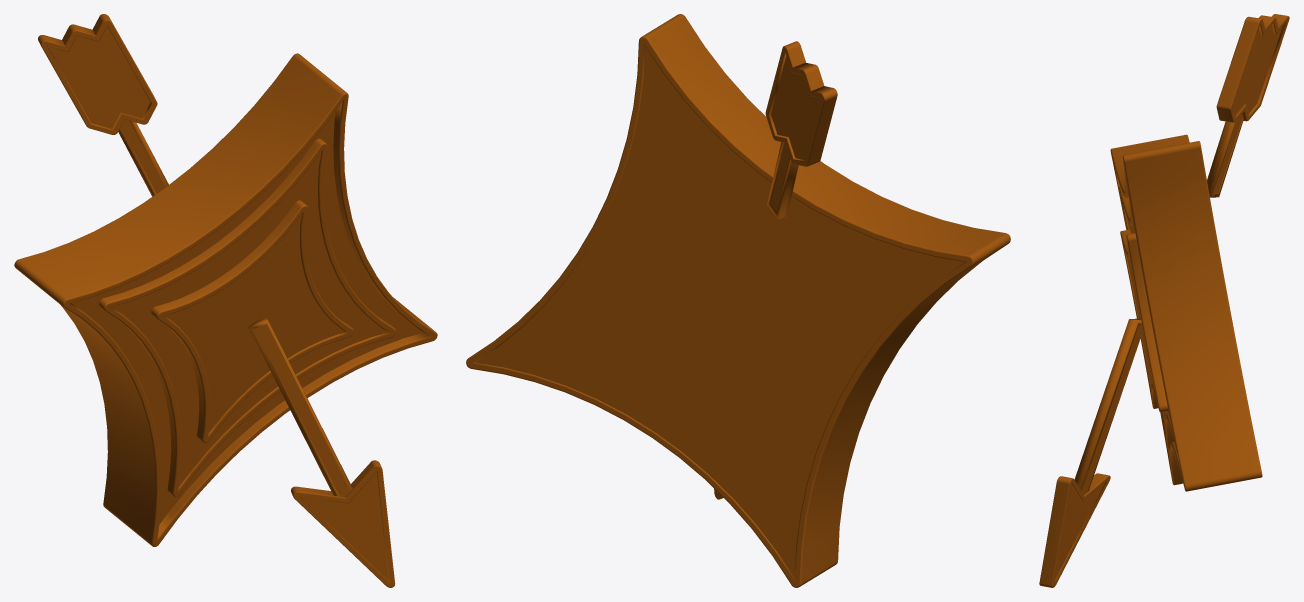
Rendered from 001_bronze.glb.
3 renders of one model, left to right at view 1: azimuth 30°, elevation 25°; view 2: azimuth 150°, elevation 25°; view 3: azimuth 270°, elevation 25°, orthographic. The views are drawn at different scales.
Visible parts, largest first — view 1: Curve.004, Curve.007, Curve.005, Curve.003, Curve.006, Curve.008, Curve.001, Curve.010, Curve.002, Curve.411, Curve.011, Curve.009 (+2 smaller); view 2: Curve.003, Curve.004, Curve.002, Curve.001, Curve; view 3: Curve.004, Curve.002, Curve.011, Curve.008, Curve.009, Curve.001, Curve.010, Curve.411, Curve, Curve.006, Curve.412, Curve.007.
Part boxes in pixels (bbox=[...]): Curve.004: bbox=[14, 53, 437, 546]; Curve.007: bbox=[164, 215, 345, 432]; Curve.005: bbox=[111, 153, 387, 486]; Curve.003: bbox=[71, 111, 423, 524]; Curve.006: bbox=[99, 138, 396, 496]; Curve.008: bbox=[151, 200, 353, 443]; Curve.001: bbox=[48, 26, 150, 128]; Curve.010: bbox=[301, 472, 388, 580]; Curve.002: bbox=[38, 14, 157, 134]; Curve.411: bbox=[252, 324, 350, 496]; Curve.011: bbox=[291, 460, 395, 587]; Curve.009: bbox=[248, 317, 352, 496]; Curve.003: bbox=[475, 46, 964, 577]; Curve.004: bbox=[466, 14, 1010, 587]; Curve.002: bbox=[765, 41, 837, 166]; Curve.001: bbox=[771, 56, 820, 159]; Curve: bbox=[767, 142, 798, 219]; Curve.004: bbox=[1110, 134, 1262, 491]; Curve.002: bbox=[1216, 14, 1289, 122]; Curve.011: bbox=[1039, 473, 1110, 587]; Curve.008: bbox=[1120, 229, 1168, 412]; Curve.009: bbox=[1074, 318, 1142, 491]; Curve.001: bbox=[1233, 25, 1282, 114]; Curve.010: bbox=[1055, 483, 1104, 578]; Curve.411: bbox=[1082, 323, 1142, 494]; Curve: bbox=[1207, 116, 1243, 197]; Curve.006: bbox=[1119, 186, 1177, 453]; Curve.412: bbox=[1213, 114, 1242, 195]; Curve.007: bbox=[1127, 257, 1153, 385].
Size of the model in its own units: 1.45 by 1.73 by 0.8013.
